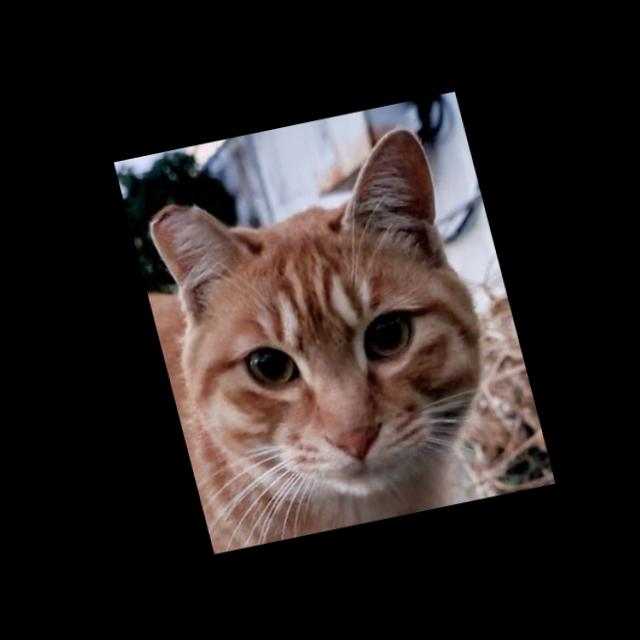animals: (127, 113, 519, 532)
